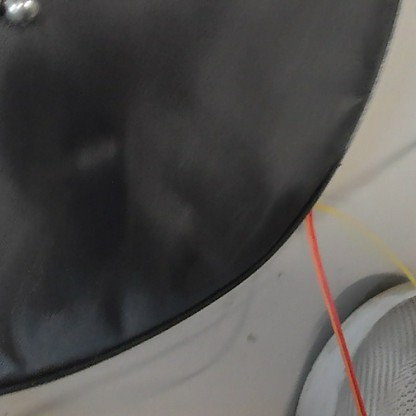ironball: (4, 0, 41, 21)
